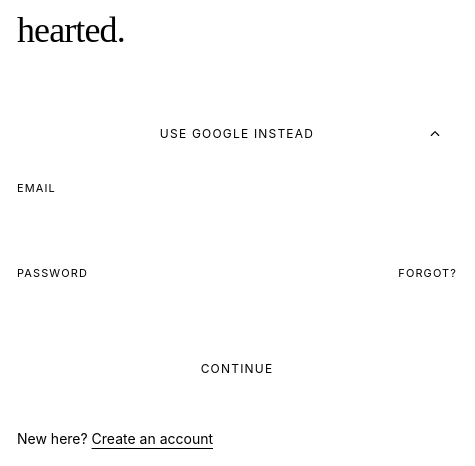
LoginForm › credentials panel › returns to the choice panel via 'Use Google instead'
Click the button "Use Google instead" at coordinates (237, 134), box [17,112,457,156]
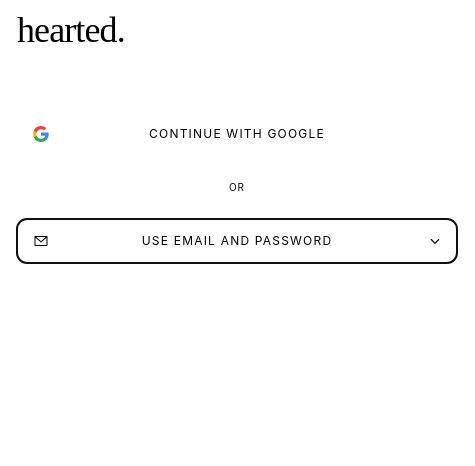
Expected: the button "Continue with Google" is shown, [17,112,457,156]
